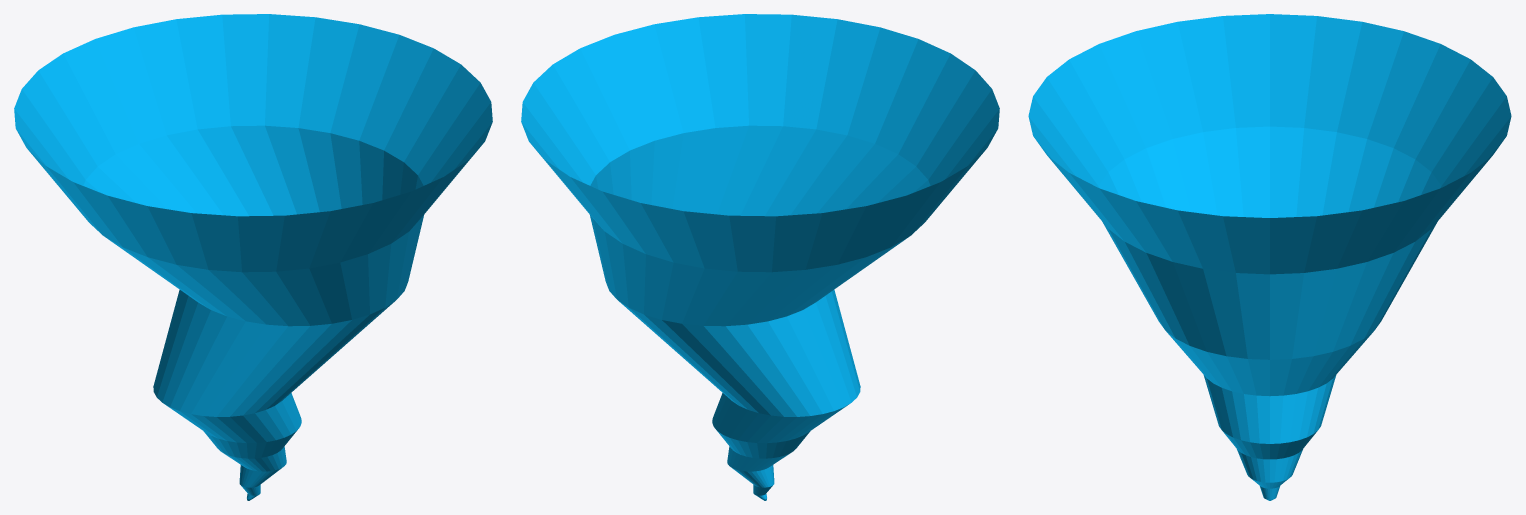
The model's file is Tornade.fbx.
3 views of the same model, side by side, from view 1: azimuth 30°, elevation 25°; view 2: azimuth 150°, elevation 25°; view 3: azimuth 270°, elevation 25° (orthographic).
Visible parts, largest first — view 1: Tornade; view 2: Tornade; view 3: Tornade.
Boxes of the visible parts, box(x1,y1,x2,y2) form: Tornade: box(14, 14, 492, 500); Tornade: box(521, 14, 999, 500); Tornade: box(1028, 14, 1511, 500).
Size of the model in its own units: 2886 by 2549 by 2886.
